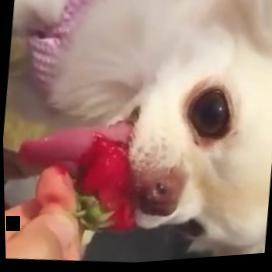nasal_discharge: (141, 177, 179, 210)
